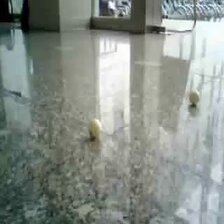w: (87, 119, 103, 138), (187, 89, 200, 105)
